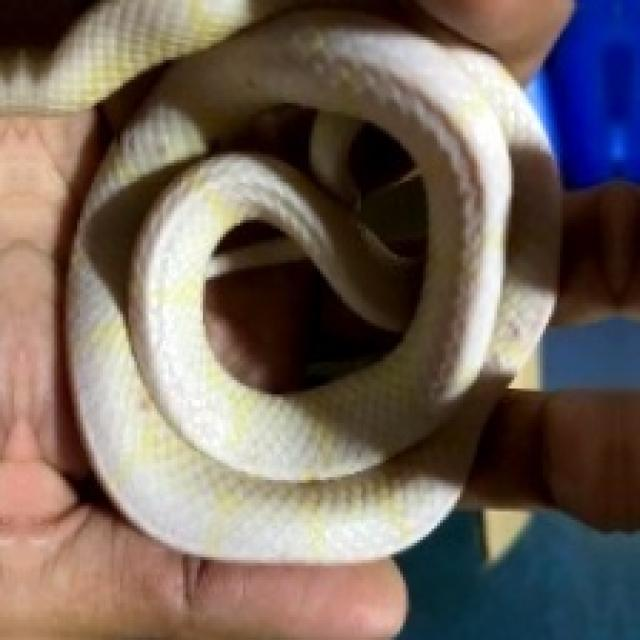gunthers philippine shrub snake: (63, 3, 566, 560)
